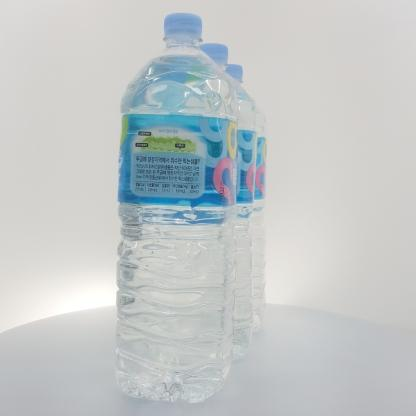--------1-5L: (116, 14, 238, 403)
